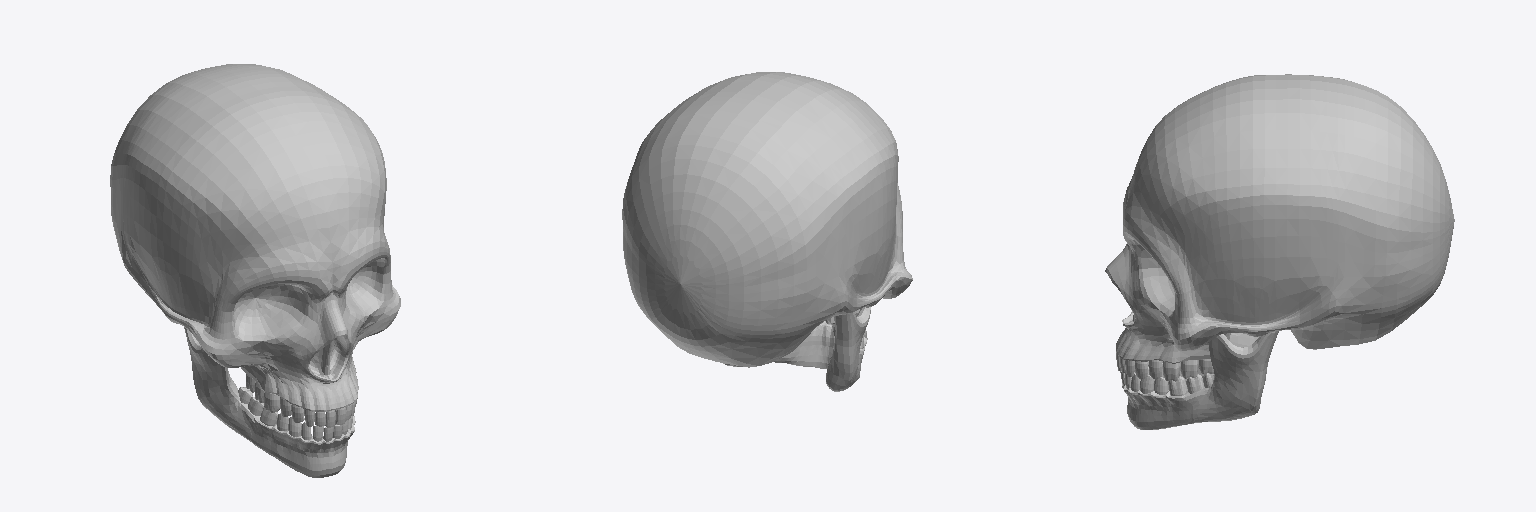
The model's file is Skull1.obj.
3 renders of one model, left to right at view 1: azimuth 30°, elevation 25°; view 2: azimuth 150°, elevation 25°; view 3: azimuth 270°, elevation 25°, orthographic.
Visible parts, largest first — view 1: Skull_(null).015; view 2: Skull_(null).015; view 3: Skull_(null).015.
Part boxes in pixels (x1,y1,x2,y2): Skull_(null).015: (110,64,400,477); Skull_(null).015: (622,72,912,391); Skull_(null).015: (1105,74,1454,429).
Size of the model in its own units: 1.65 by 2.44 by 2.31.